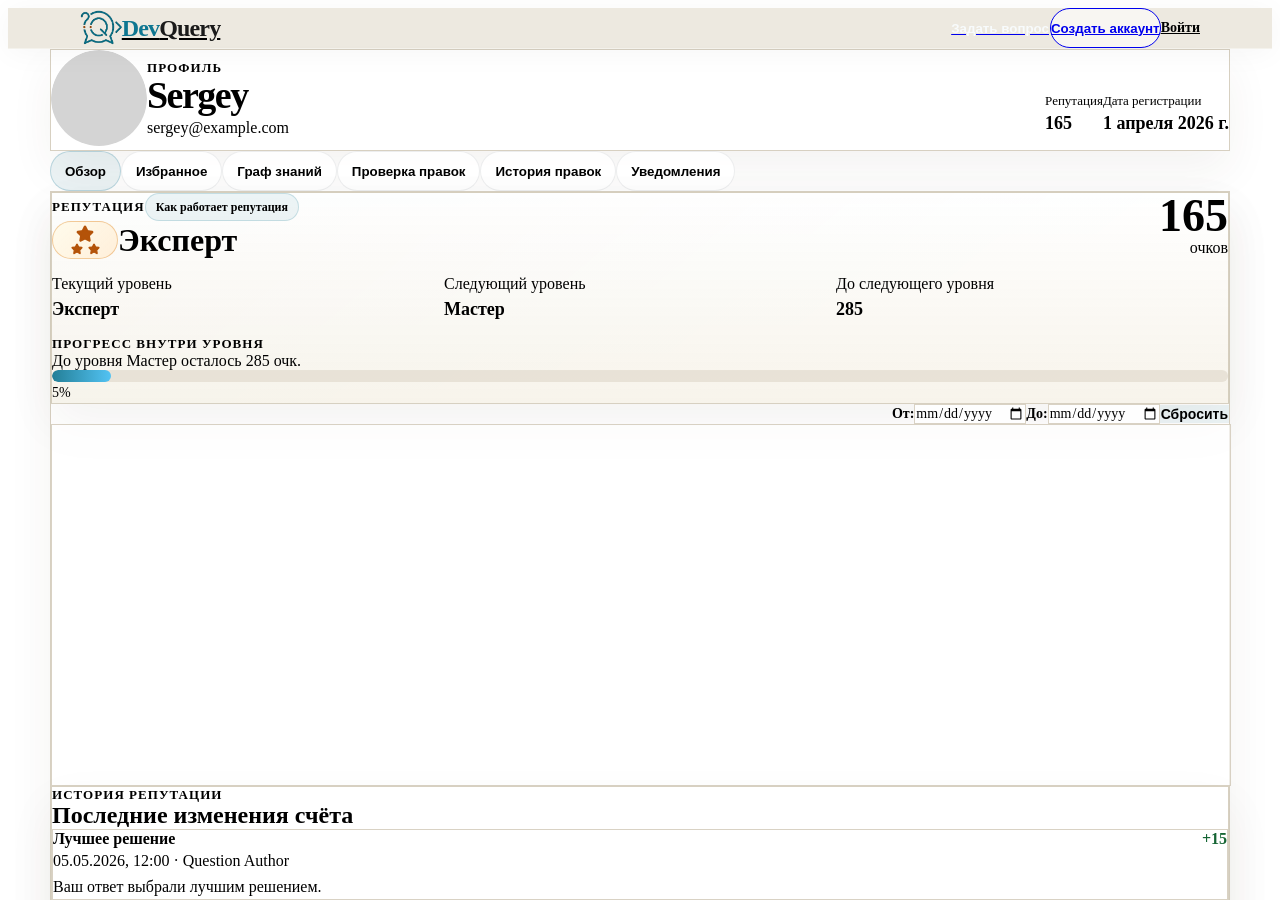
Test: profile reputation surfaces › opens the real AppDialog with scoring rules, all trust levels, and rank icons
Click the button with test id "reputation-explanation-trigger" at (222, 207), box [145,193,299,221]
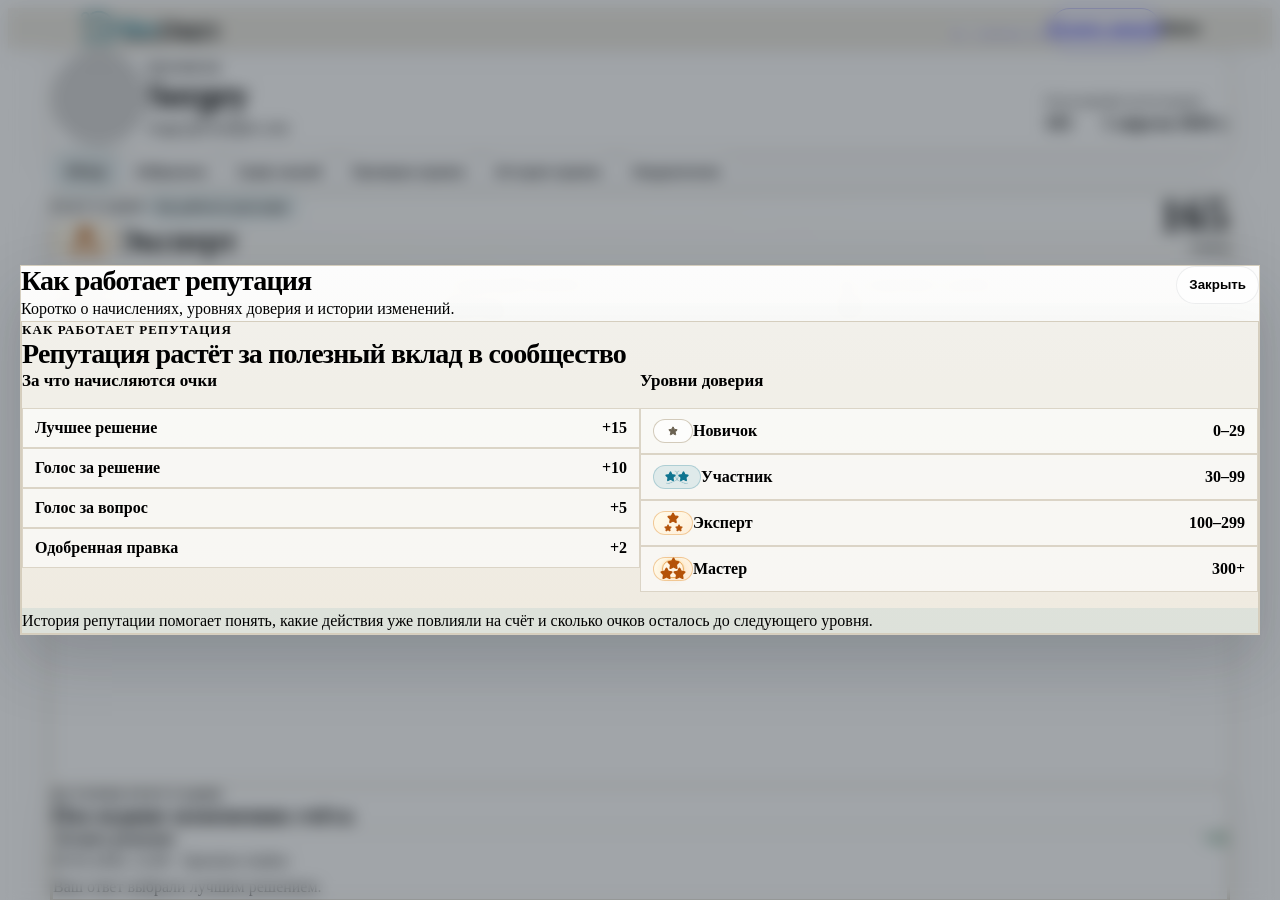
Expected: the dialog is shown, [20,265,1260,636]
Expected: the element with test id "reputation-explanation-panel" is shown, [21,321,1259,634]
